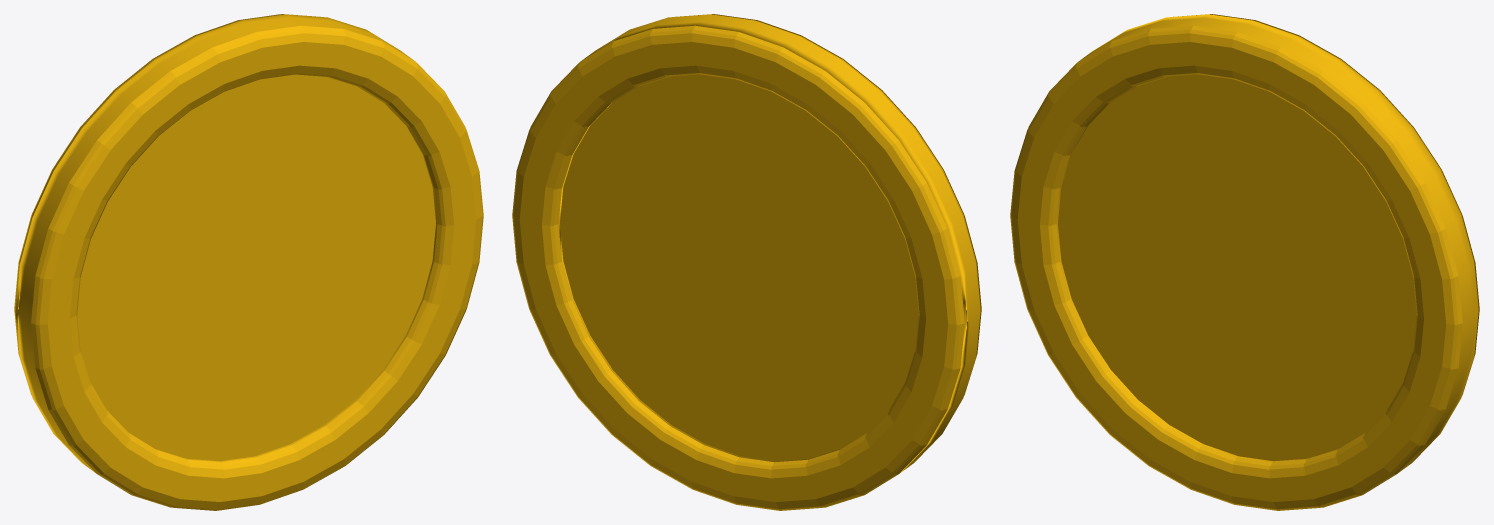
Rendered from goldcoin.FBX.
The picture shows the model from 3 angles, left to right: view 1: azimuth 30°, elevation 25°; view 2: azimuth 150°, elevation 25°; view 3: azimuth 330°, elevation 25°; orthographic projection.
Visible parts, largest first — view 1: coin; view 2: coin; view 3: coin.
Part boxes in pixels (x1,y1,x2,y2): coin: [14, 14, 483, 510]; coin: [512, 14, 981, 510]; coin: [1010, 14, 1479, 510].
Bounding box in the file's own units: 7.87 × 7.87 × 0.7874.
